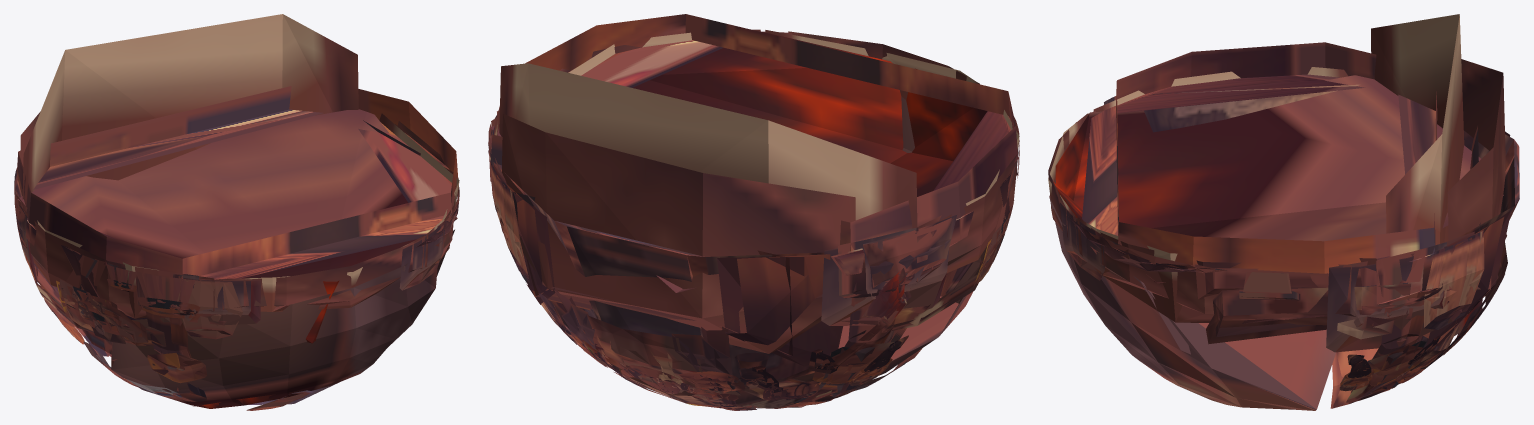
The model's file is Viking.obj.
3 views of the same model, side by side, from view 1: azimuth 30°, elevation 25°; view 2: azimuth 150°, elevation 25°; view 3: azimuth 270°, elevation 25° (orthographic). The views are drawn at different scales.
Visible parts, largest first — view 1: Viking; view 2: Viking; view 3: Viking.
Part boxes in pixels (x1,y1,x2,y2): Viking: (14, 14, 459, 410); Viking: (488, 14, 1019, 410); Viking: (1048, 14, 1519, 410).
Size of the model in its own units: 2 by 1.51 by 1.97.
1 material, 1 textured.
